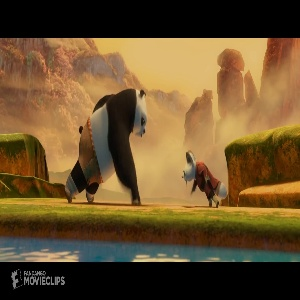po: (62, 86, 153, 207)
shifu: (180, 147, 230, 209)
